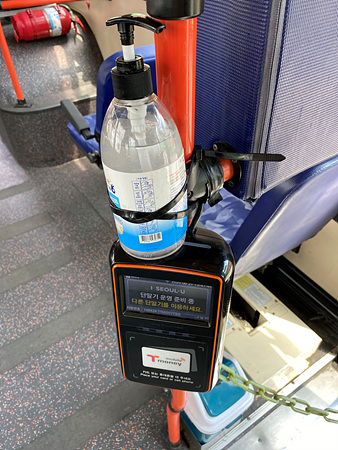terminal: (110, 240, 232, 394)
